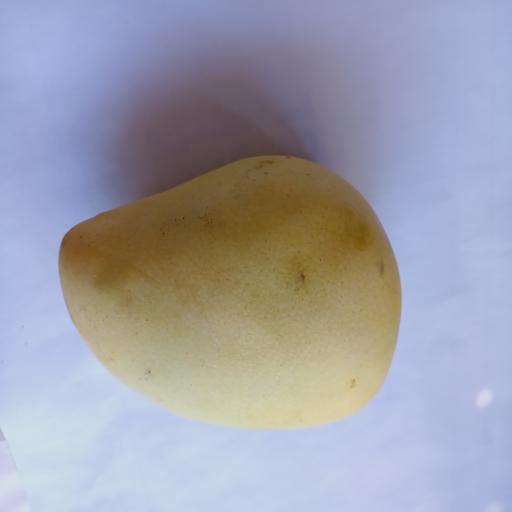mango-ripe: (53, 148, 427, 456)
